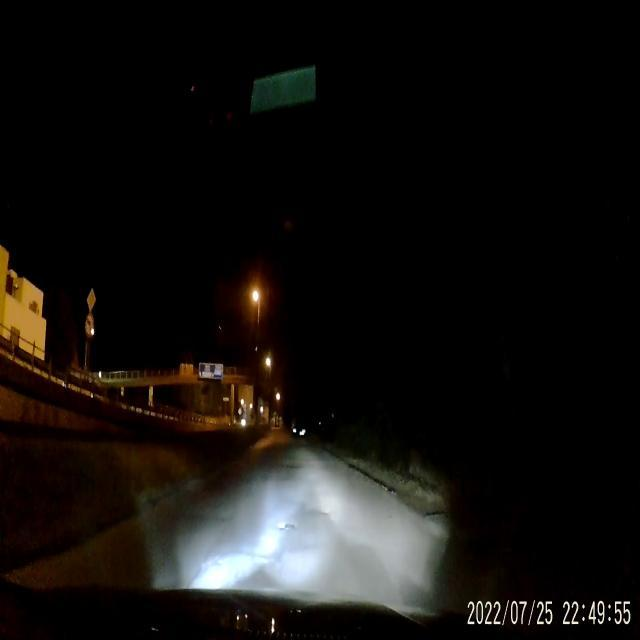Pothole: (188, 550, 274, 590), (190, 512, 228, 525), (278, 516, 298, 536), (277, 462, 303, 471), (319, 508, 331, 518)
